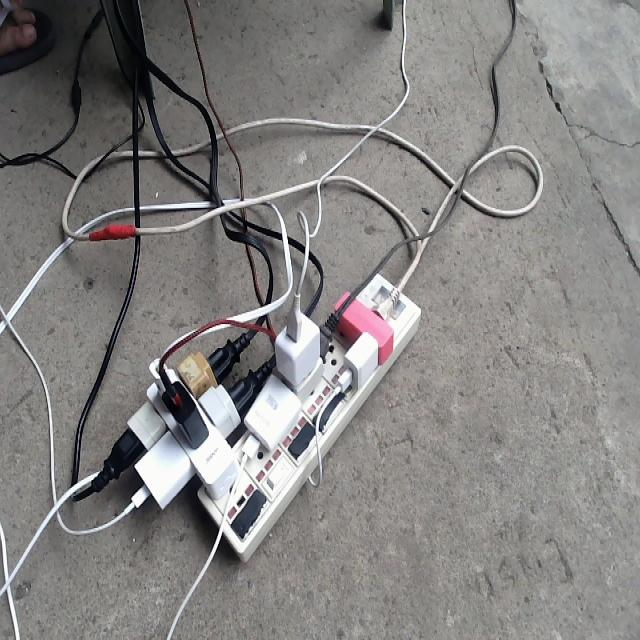-: (101, 273, 422, 560)
